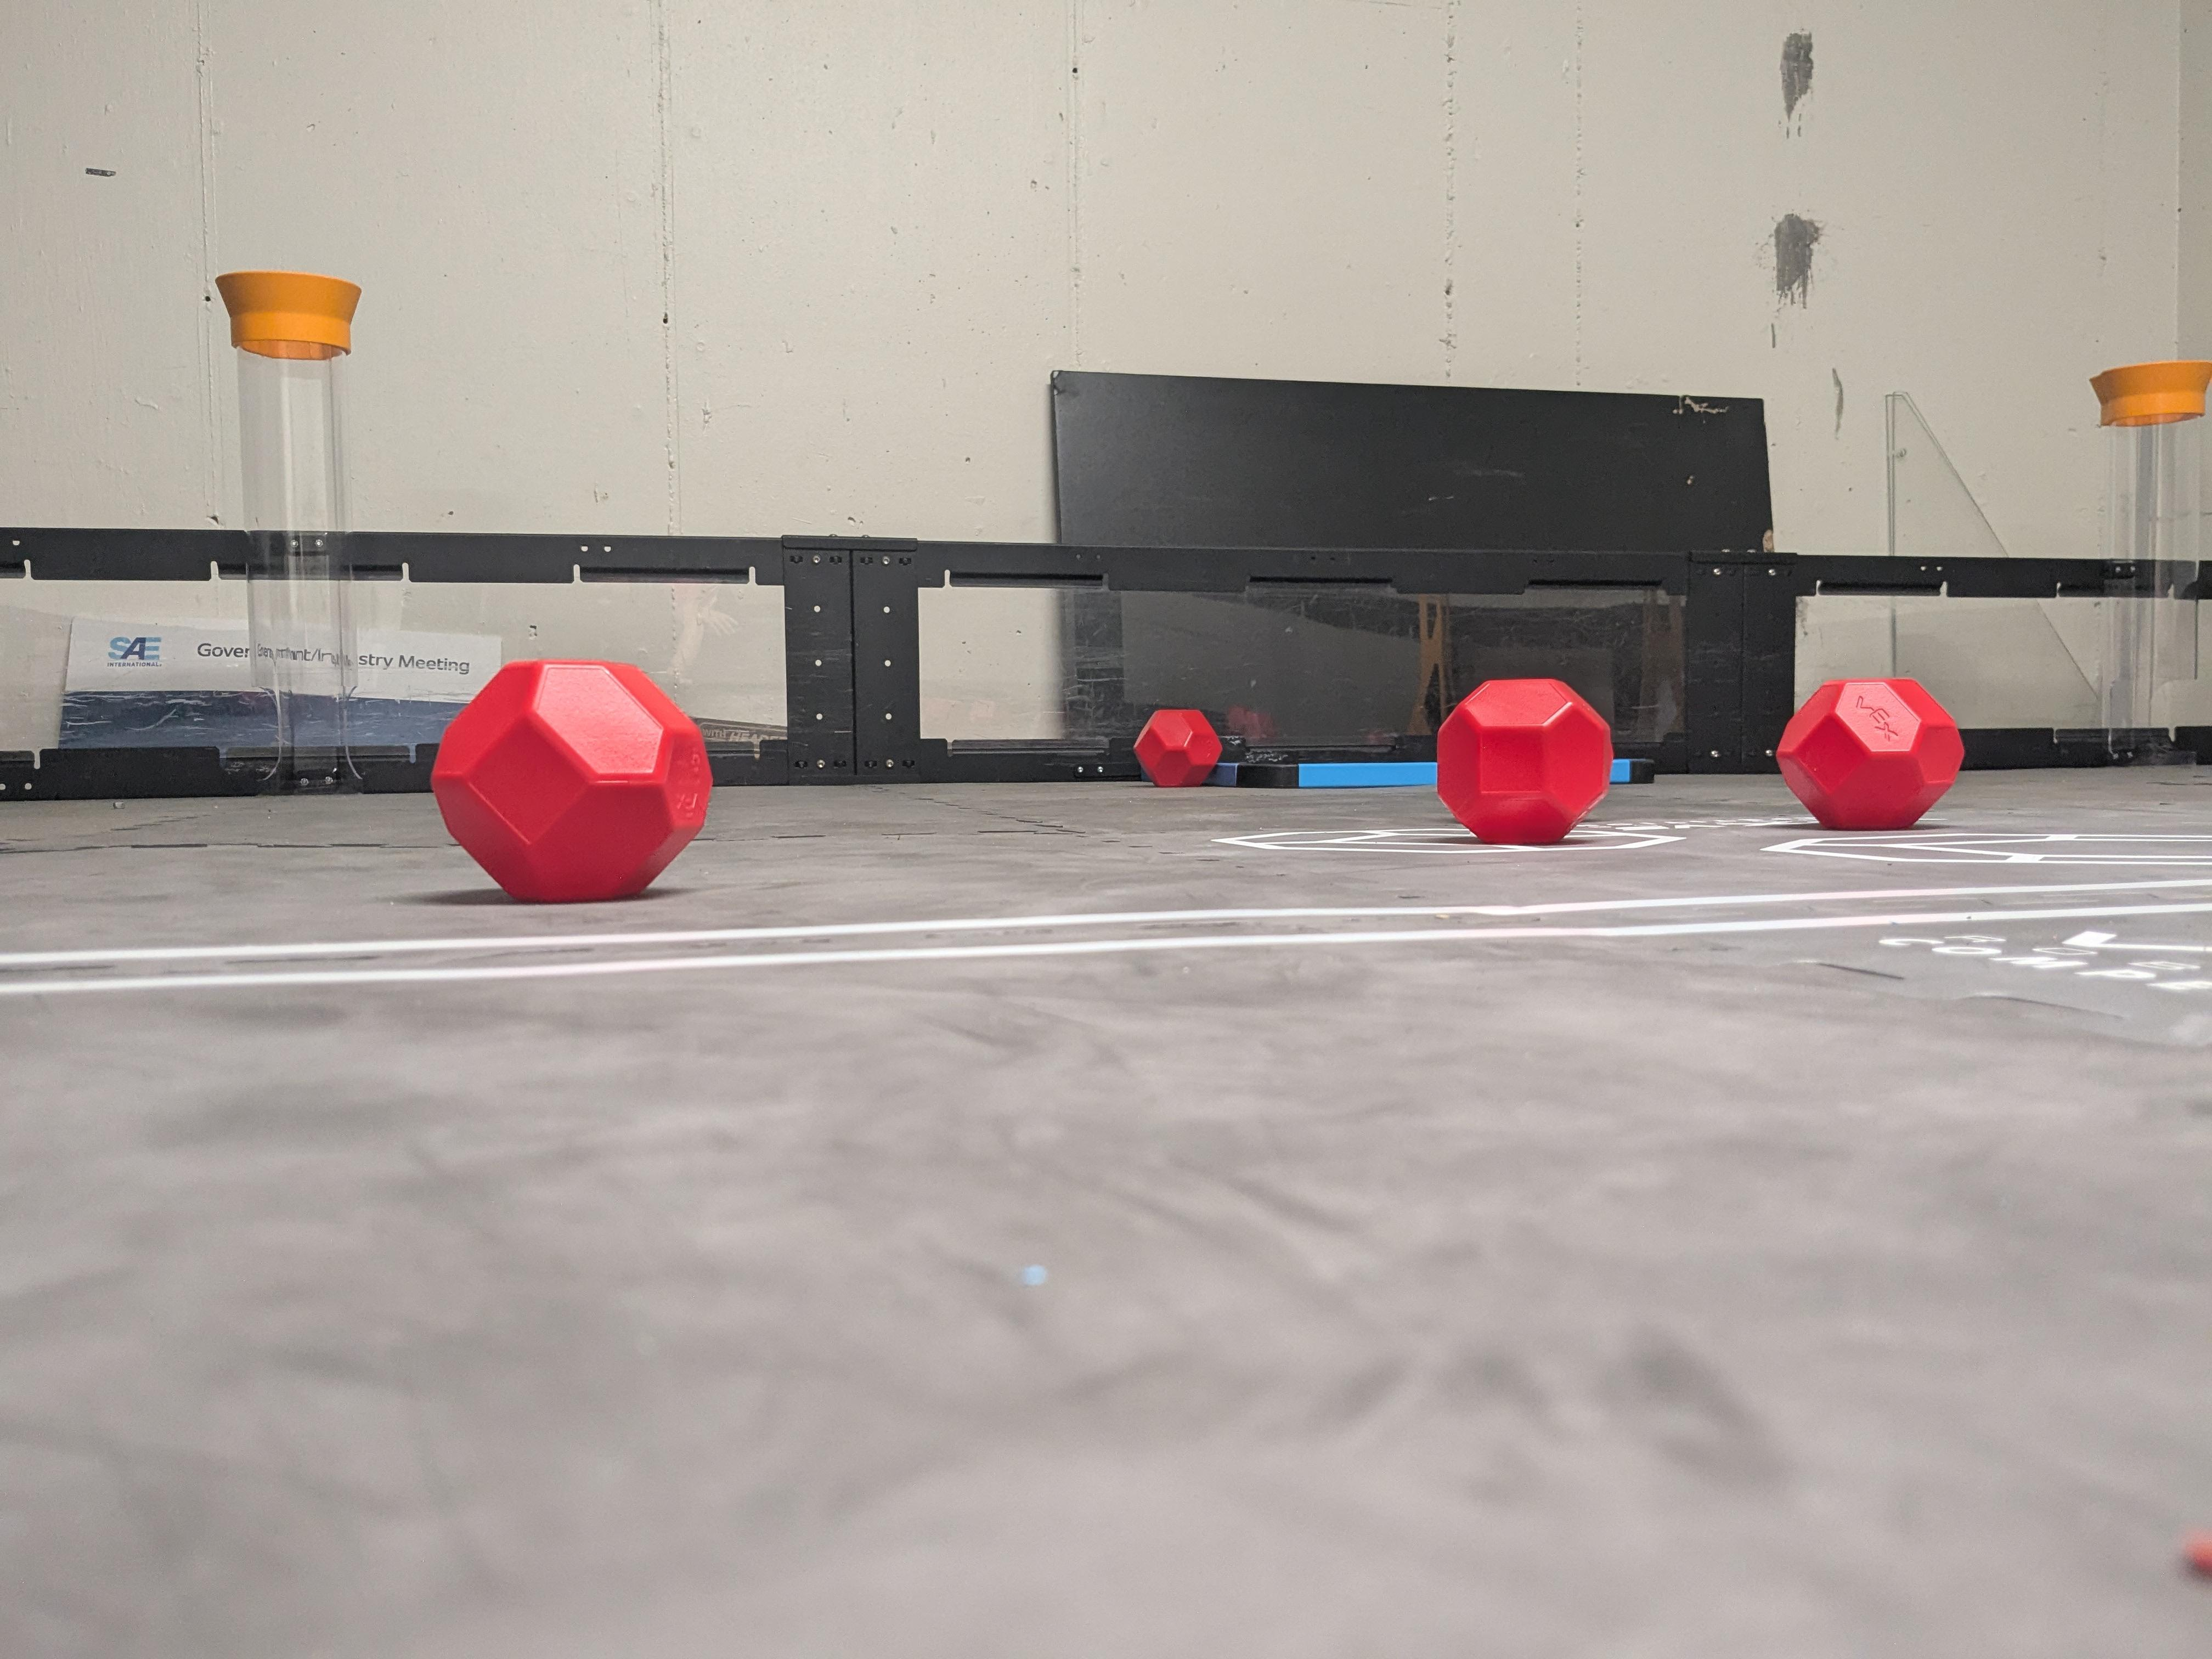Vex-Pieces-RED: (435, 655, 712, 899), (1440, 681, 1609, 845), (1777, 678, 1959, 826), (1134, 709, 1221, 788)
